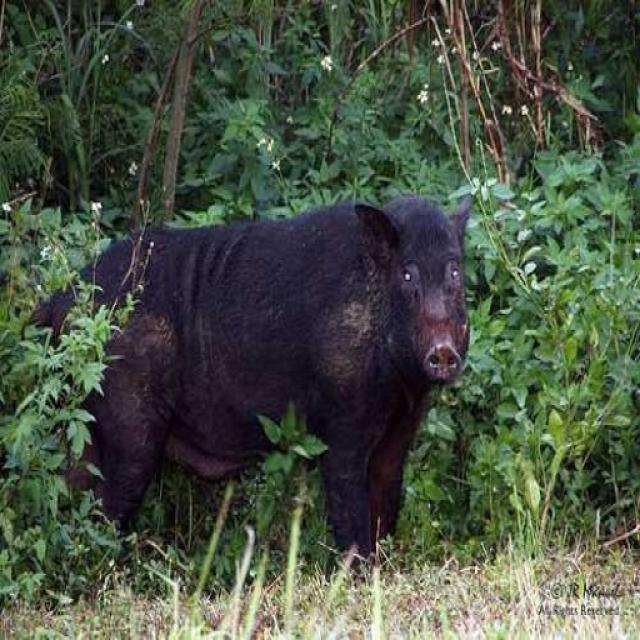pig: (57, 174, 475, 584)
